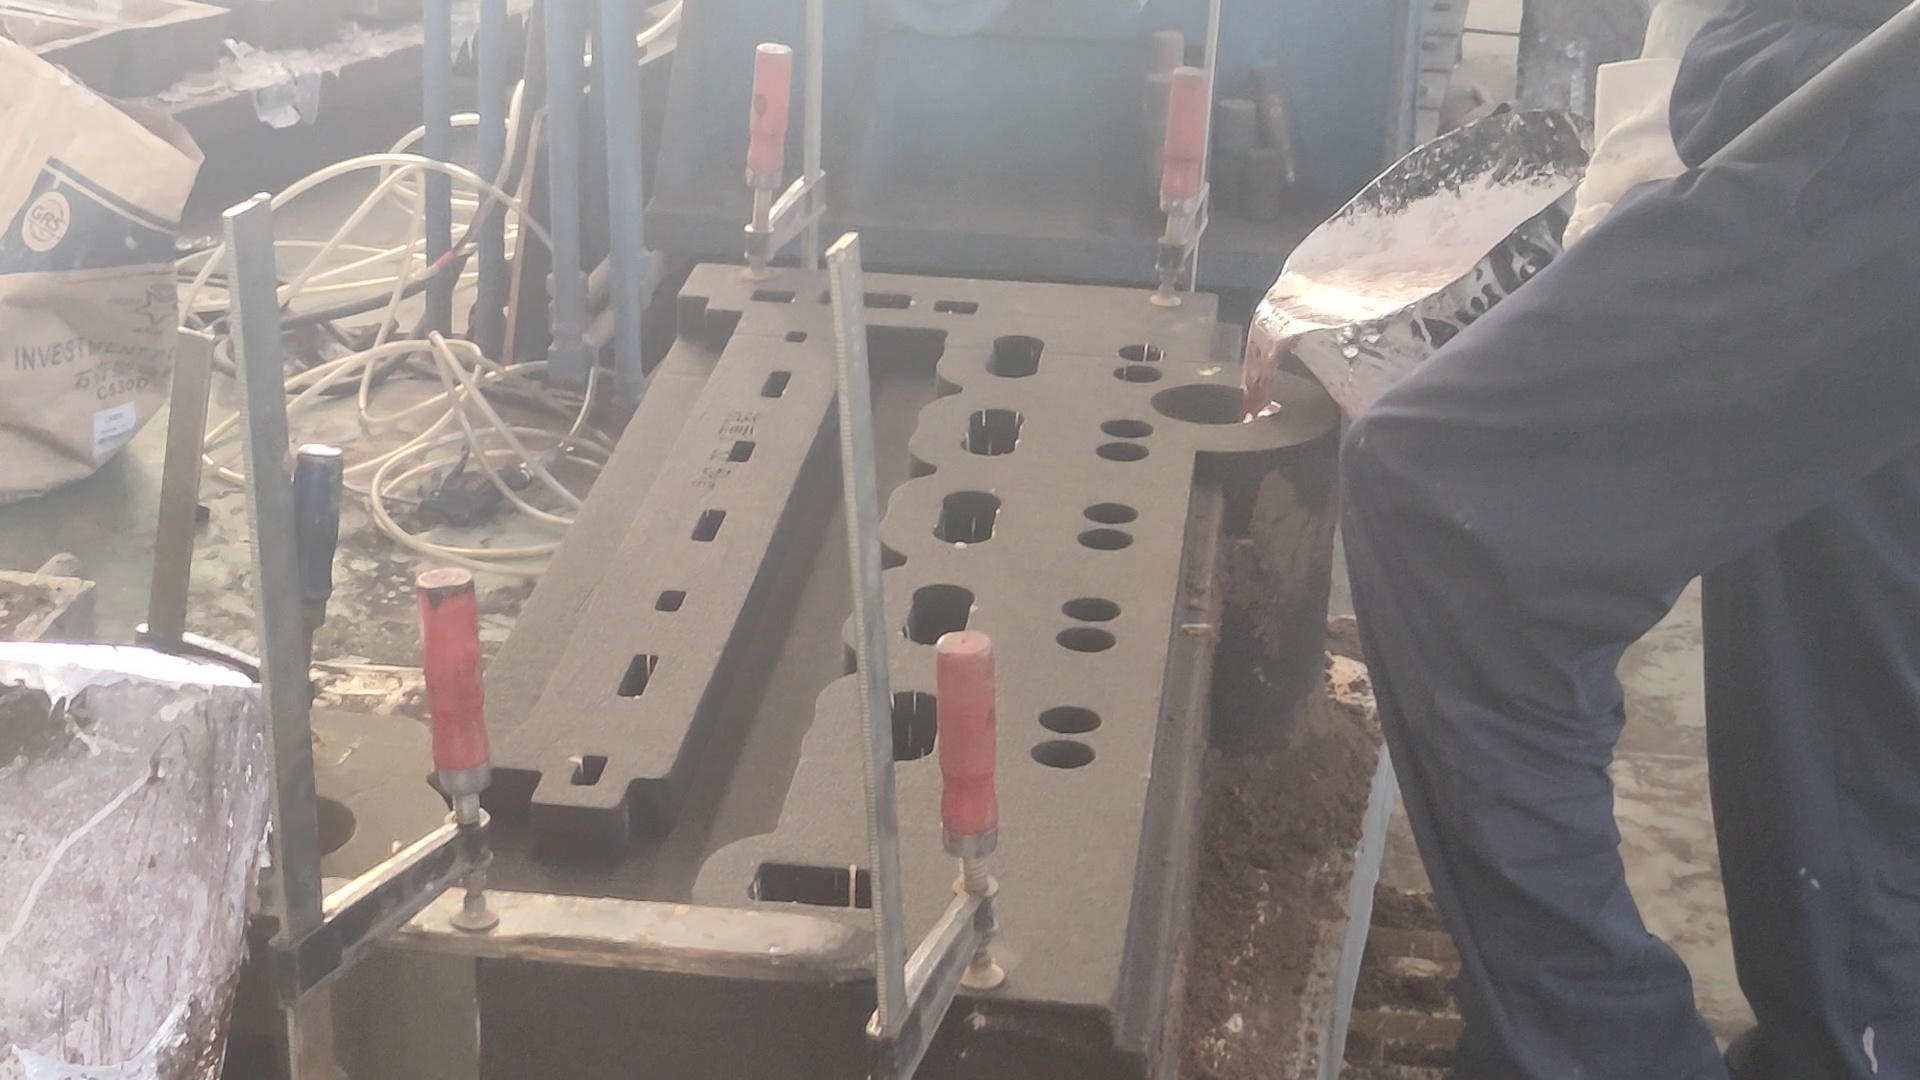pouring hole: (265, 793, 357, 858), (1151, 384, 1280, 426)
